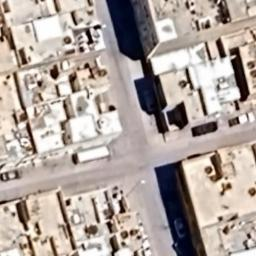others: (72, 146, 112, 166)
pickup: (225, 110, 256, 128)
sedan: (170, 214, 190, 240), (0, 169, 25, 182)
unknown: (189, 119, 220, 137)
